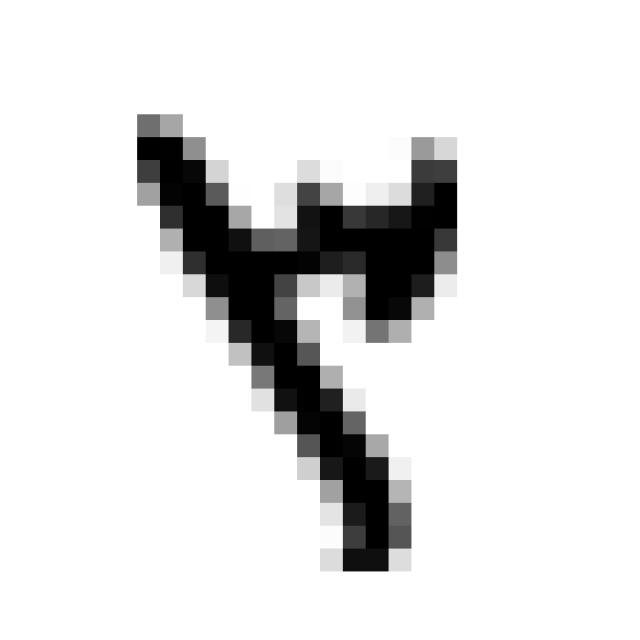3 -three-: (110, 85, 482, 599)
